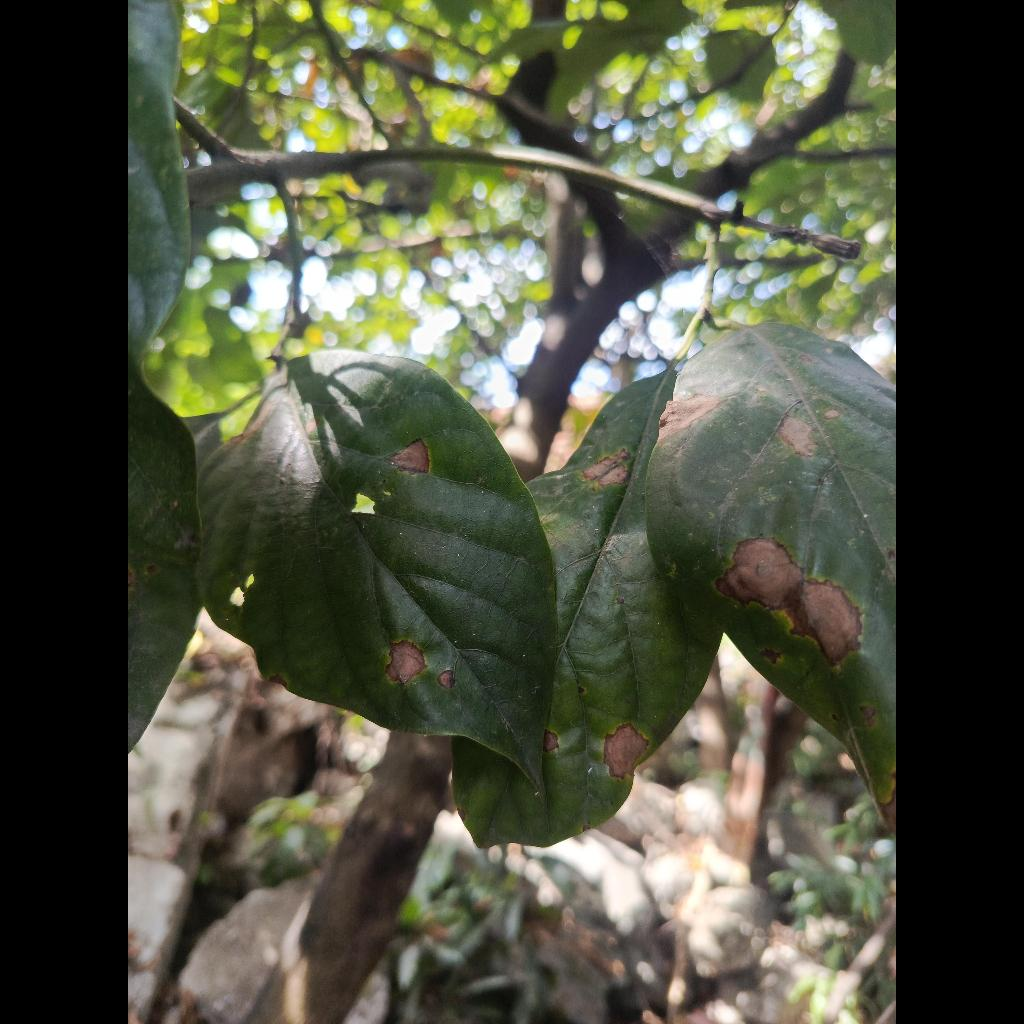Anthracnose: (198, 350, 556, 790)
